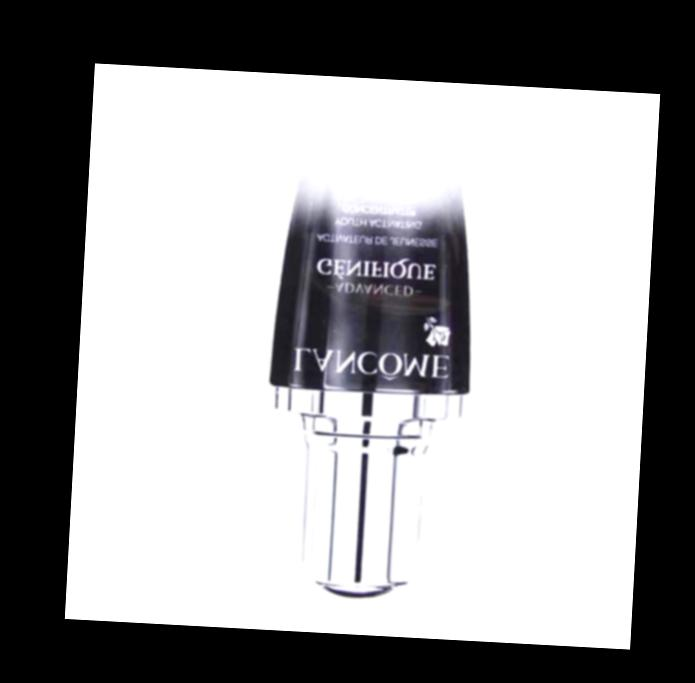cosmetic: (258, 106, 486, 606)
